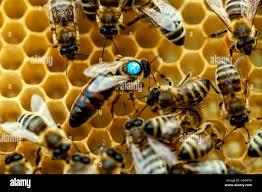Queen-Bee: (68, 45, 150, 130)
worker-bee: (5, 100, 90, 162), (115, 108, 172, 175), (125, 0, 195, 51), (214, 56, 254, 135), (150, 64, 210, 113), (216, 0, 261, 56), (178, 115, 227, 166), (42, 0, 88, 54), (145, 106, 206, 139)
